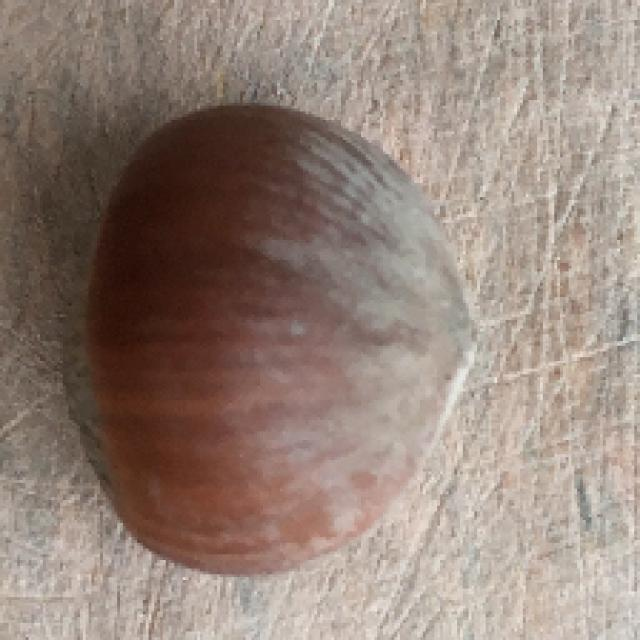damagedHazelnut: (61, 105, 479, 572)
